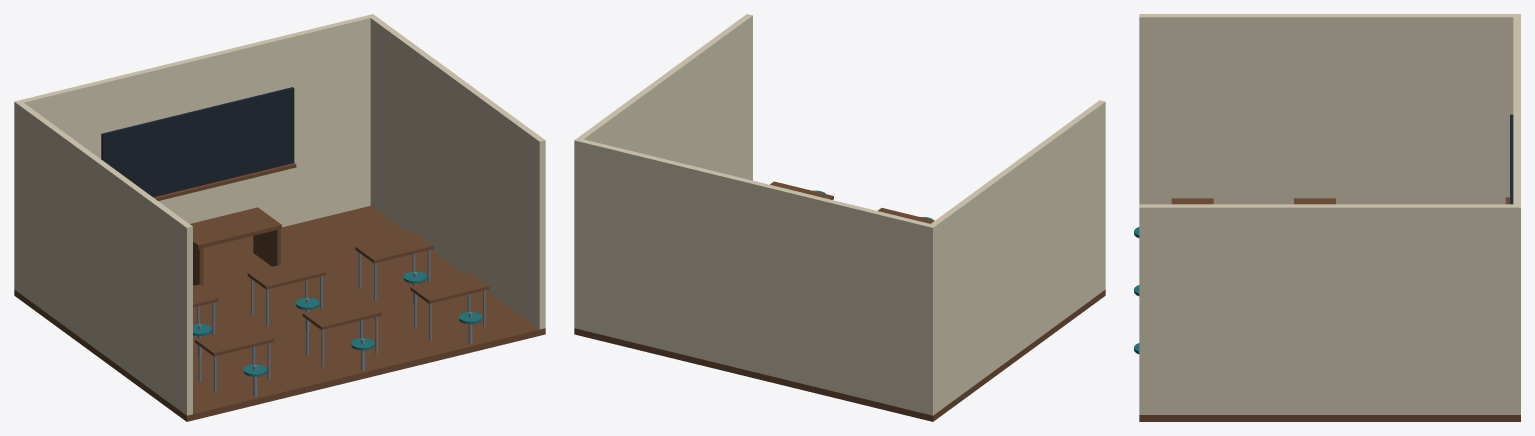
The model's file is classroom-lod0.glb.
3 views of the same model, side by side, from view 1: azimuth 30°, elevation 25°; view 2: azimuth 150°, elevation 25°; view 3: azimuth 270°, elevation 25° (orthographic). The views are drawn at different scales.
Parts seen in each view (by area): view 1: side-wall (×2), floor, back-wall, chalkboard, teacher-desk, desk-1-1, desk-0-0, desk-1--1, desk-1-0, desk-0-1, teacher-desk-side, chalk-tray; view 2: back-wall, side-wall (×2), floor; view 3: side-wall (×2), back-wall, floor, chalkboard.
Boxes of the visible parts, left/top/right/bottom form: side-wall (×2): left=14, top=14, right=545, bottom=415; floor: left=14, top=206, right=545, bottom=421; back-wall: left=14, top=14, right=376, bottom=291; chalkboard: left=101, top=87, right=294, bottom=197; teacher-desk: left=190, top=207, right=281, bottom=248; desk-1-1: left=410, top=272, right=489, bottom=303; desk-0-0: left=247, top=258, right=326, bottom=289; desk-1--1: left=195, top=325, right=273, bottom=356; desk-1-0: left=302, top=298, right=381, bottom=329; desk-0-1: left=355, top=232, right=433, bottom=263; teacher-desk-side: left=253, top=226, right=280, bottom=266; chalk-tray: left=153, top=163, right=296, bottom=200; back-wall: left=574, top=138, right=936, bottom=415; side-wall (×2): left=574, top=14, right=1105, bottom=415; floor: left=574, top=289, right=1105, bottom=421; side-wall (×2): left=1139, top=14, right=1520, bottom=414; back-wall: left=1513, top=14, right=1520, bottom=414; floor: left=1139, top=415, right=1520, bottom=421; chalkboard: left=1510, top=114, right=1513, bottom=204.
Bounding box in the file's own units: 6 × 3.1 × 5.07.
